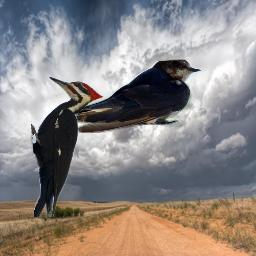Swallow: (68, 59, 201, 133)
Woodpecker: (31, 75, 106, 217)
